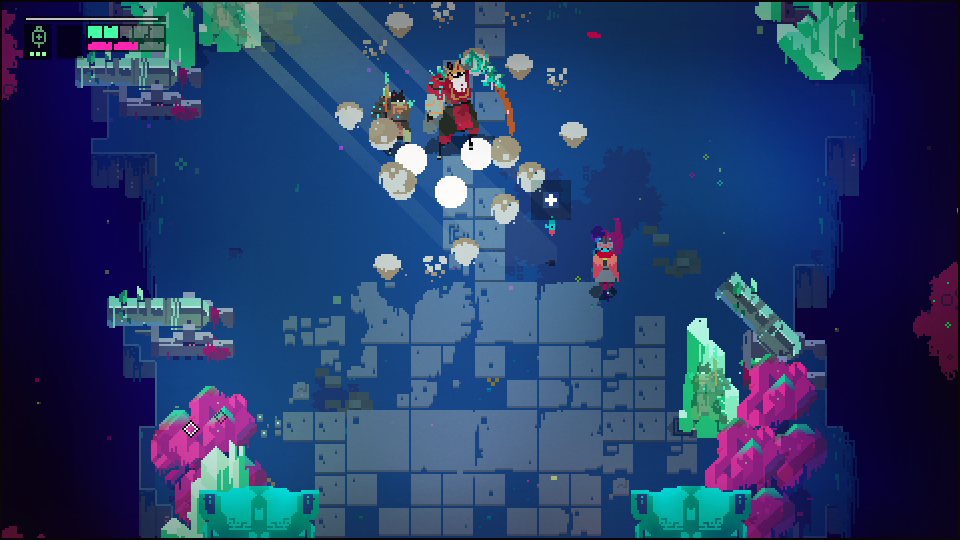hanged_man: (424, 54, 512, 149)
player: (591, 239, 622, 292)
